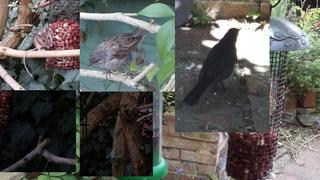blackbird: (183, 27, 243, 106)
dunnock: (87, 27, 148, 81)
mouse: (23, 27, 53, 78)
